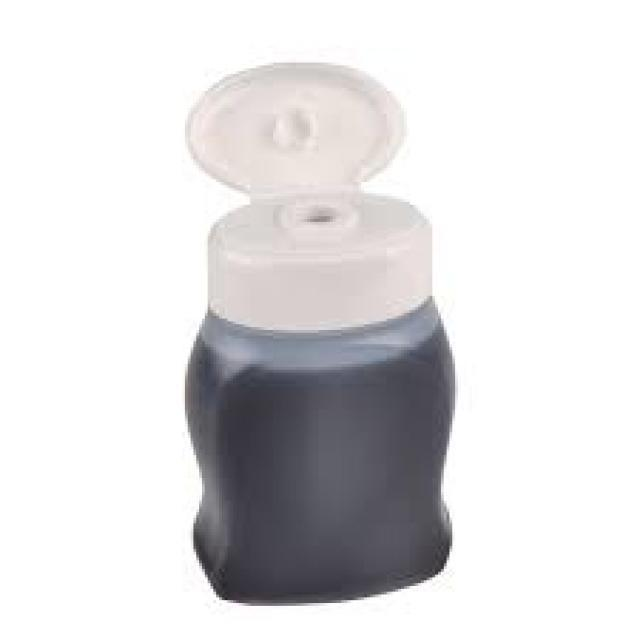Plastic: (188, 59, 458, 608)
